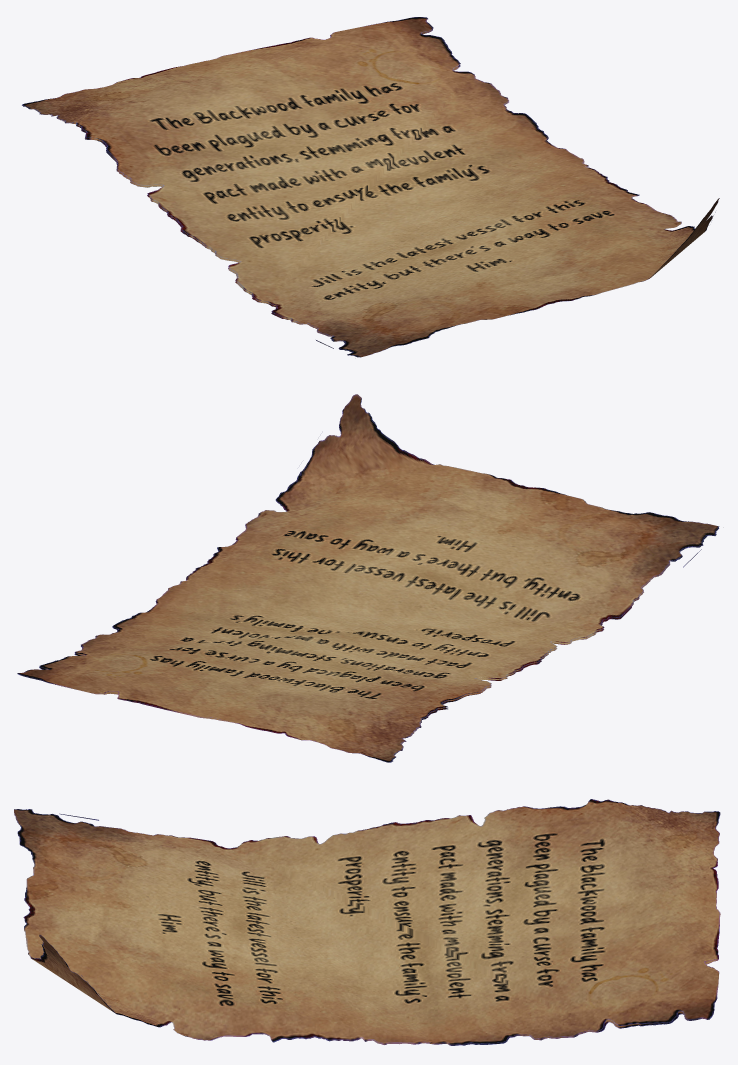
Rendered from Caretaker's_Note.fbx.
The picture shows the model from 3 angles, top to bottom: view 1: azimuth 30°, elevation 25°; view 2: azimuth 150°, elevation 25°; view 3: azimuth 270°, elevation 25°; orthographic projection. The views are drawn at different scales.
Visible parts, largest first — view 1: PreviousCaretaker_s_Note_Mesh; view 2: PreviousCaretaker_s_Note_Mesh; view 3: PreviousCaretaker_s_Note_Mesh.
Boxes of the visible parts, box(x1,y1,x2,y2) form: PreviousCaretaker_s_Note_Mesh: box(22, 17, 719, 357); PreviousCaretaker_s_Note_Mesh: box(17, 394, 719, 762); PreviousCaretaker_s_Note_Mesh: box(14, 799, 720, 1045).
Size of the model in its own units: 15.81 by 3.68 by 22.91.
Materials: 1 (1 with a texture image).
